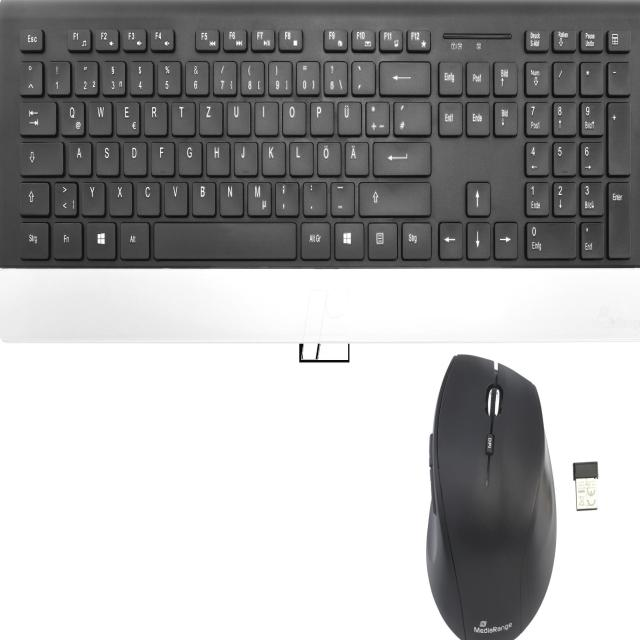0: (294, 58, 319, 94)
1: (45, 58, 70, 95)
2: (73, 58, 98, 95)
3: (100, 58, 125, 95)
4: (129, 58, 153, 94)
5: (155, 58, 180, 95)
6: (184, 58, 208, 95)
7: (211, 58, 236, 94)
8: (239, 58, 263, 95)
9: (266, 58, 291, 95)
a: (66, 139, 91, 175)
accent: (350, 58, 374, 94)
ae: (343, 139, 368, 175)
alt-left: (118, 220, 149, 259)
altgr-right: (299, 219, 330, 259)
b: (191, 178, 216, 215)
c: (135, 179, 160, 215)
caret: (18, 59, 42, 95)
comma: (273, 178, 298, 215)
d: (122, 139, 146, 175)
del: (377, 58, 430, 95)
e: (115, 99, 140, 135)
enter: (371, 139, 431, 175)
f: (149, 138, 174, 175)
g: (177, 138, 201, 175)
h: (205, 138, 229, 175)
hash: (392, 98, 431, 135)
i: (253, 98, 277, 134)
j: (233, 138, 257, 175)
k: (260, 138, 285, 175)
keyboard: (5, 0, 640, 273)
l: (288, 139, 312, 175)
less: (52, 179, 77, 216)
m: (246, 179, 271, 215)
minus: (329, 178, 354, 215)
n: (218, 179, 243, 215)
o: (280, 98, 305, 135)
oe: (316, 139, 340, 175)
p: (308, 98, 333, 135)
plus: (364, 98, 388, 134)
point: (302, 179, 327, 215)
q: (59, 99, 84, 135)
r: (142, 99, 167, 135)
s: (94, 139, 118, 175)
shift-left: (17, 179, 49, 215)
shift-lock: (18, 138, 63, 175)
shift-right: (357, 179, 431, 215)
space: (153, 218, 296, 260)
ss: (322, 58, 346, 94)
strg-left: (17, 220, 49, 259)
strg-right: (399, 220, 431, 260)
t: (170, 98, 194, 135)
tab: (17, 98, 55, 135)
u: (225, 99, 250, 135)
ue: (336, 99, 361, 135)
v: (163, 179, 187, 215)
w: (87, 98, 112, 135)
x: (108, 180, 132, 216)
y: (79, 178, 104, 215)
z: (197, 98, 222, 135)
